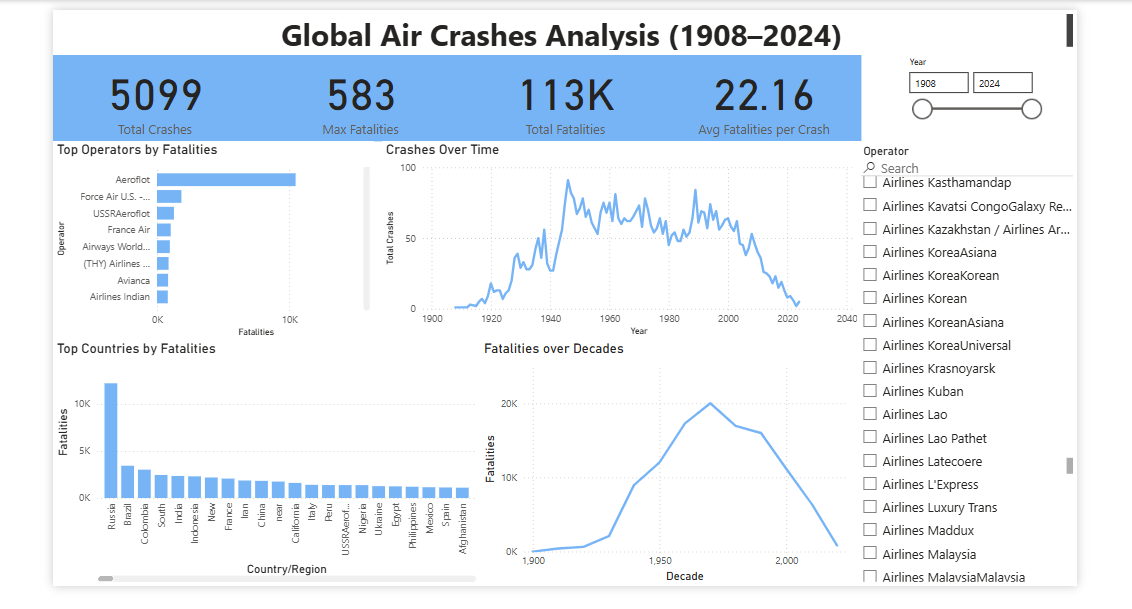

The page's visual inventory and layout, read from the dashboard file:
{"tool":"powerbi","page":{"name":"Page 1","canvas":[1280,720],"ordinal":0},"visuals":[{"type":"card","fields":{"Values":["CountNonNull(cleaned_aircrashes_with_geo.Year)"]},"box":[0,56.2,255,107.5],"z":0},{"type":"actionButton","box":[0,0,100,46.7],"z":1},{"type":"card","fields":{"Values":["Sum(cleaned_aircrashes_with_geo.Fatalities_air)"]},"box":[513.8,56.2,253.8,107.5],"z":2},{"type":"card","fields":{"Values":["cleaned_aircrashes_with_geo.Avg Fatalities per Crash"]},"box":[767.5,56.2,242.5,107.5],"z":3},{"type":"card","fields":{"Values":["cleaned_aircrashes_with_geo.Max Fatalities"]},"box":[255,56.2,258.8,107.5],"z":4},{"type":"slicer","fields":{"Values":["cleaned_aircrashes_with_geo.Year"]},"box":[1057.5,53.8,186.2,108.8],"z":5},{"type":"slicer","fields":{"Values":["cleaned_aircrashes_with_geo.Operator"]},"box":[1000,163.8,280,556.2],"z":6},{"type":"lineChart","title":"Fatalities over Decades","fields":{"Y":["Sum(cleaned_aircrashes_with_geo.Fatalities_air)"],"Category":["cleaned_aircrashes_with_geo.DecadeSort"]},"box":[533.8,412.5,466.2,307.5],"z":7},{"type":"lineChart","title":"Crashes Over Time","fields":{"Category":["cleaned_aircrashes_with_geo.Year"],"Y":["cleaned_aircrashes_with_geo.Total Crashes"]},"box":[411.2,163.8,598.8,248.8],"z":8},{"type":"clusteredColumnChart","title":"Top Countries by Fatalities","fields":{"Category":["cleaned_aircrashes_with_geo.Country/Region"],"Y":["Sum(cleaned_aircrashes_with_geo.Fatalities_air)"]},"box":[0,412.5,533.8,307.5],"z":10},{"type":"barChart","title":"Top Operators by Fatalities","fields":{"Category":["cleaned_aircrashes_with_geo.Operator"],"Y":["Sum(cleaned_aircrashes_with_geo.Fatalities_air)"]},"box":[0,163.3,401.1,250],"z":11},{"type":"textbox","box":[0,0,1280,55],"z":12}]}

Visuals, with their boxes in screenshot pixels (x1, y1, x2, y2):
card - CountNonNull(cleaned_aircrashes_with_geo.Year): l=115, t=51, r=321, b=138
actionButton: l=115, t=6, r=196, b=44
card - Sum(cleaned_aircrashes_with_geo.Fatalities_air): l=529, t=51, r=734, b=138
card - cleaned_aircrashes_with_geo.Avg Fatalities per Crash: l=734, t=51, r=929, b=138
card - cleaned_aircrashes_with_geo.Max Fatalities: l=321, t=51, r=529, b=138
slicer - cleaned_aircrashes_with_geo.Year: l=968, t=49, r=1118, b=137
slicer - cleaned_aircrashes_with_geo.Operator: l=921, t=138, r=1131, b=586
"Fatalities over Decades" lineChart: l=545, t=338, r=921, b=586
"Crashes Over Time" lineChart: l=446, t=138, r=929, b=339
"Top Countries by Fatalities" clusteredColumnChart: l=115, t=338, r=545, b=586
"Top Operators by Fatalities" barChart: l=115, t=138, r=438, b=339
textbox: l=115, t=6, r=1131, b=50
